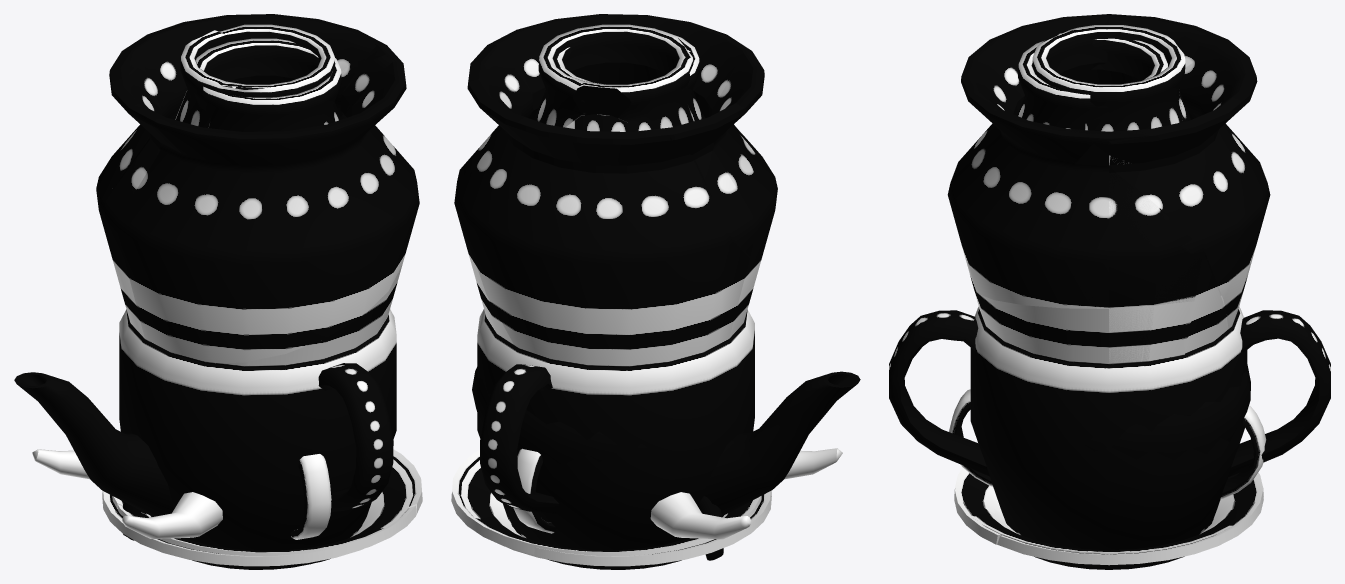
The model's file is SM_PotAndVase.fbx.
3 views of the same model, side by side, from view 1: azimuth 30°, elevation 25°; view 2: azimuth 150°, elevation 25°; view 3: azimuth 270°, elevation 25° (orthographic).
Visible parts, largest first — view 1: SM_Vase2, SM_ElephantPot1, SM_Vase1, SM_Vase1_Shard2, SM_Plate1, SM_Vase2_2_Shard1, SM_Vase2_1_Shard3, SM_Vase2_2_Shard2, SM_Plate1_Shard1, SM_ElephantCup1, SM_Vase2_2_Shard3, SM_Plate1_Shard2; view 2: SM_Vase2_2_Shard1, SM_ElephantPot1, SM_Vase1_Shard2, SM_Vase2, SM_Vase2_2_Shard2, SM_Plate1, SM_Vase2_2_Shard3, SM_Vase3, SM_Plate1_Shard2, SM_ElephantCup1, SM_Vase1, SM_Vase2_2_Shard4 (+2 smaller); view 3: SM_ElephantPot1, SM_Vase2, SM_Vase2_2_Shard1, SM_Vase2_2_Shard4, SM_Vase1_Shard2, SM_Vase2_1_Shard1, SM_Vase2_1_Shard3, SM_Vase1, SM_Vase3, SM_Plate1_Shard2, SM_Vase2_2_Shard3, SM_ElephantCup1 (+4 smaller).
Boxes of the visible parts, x1=… form: SM_Vase2: x1=104, y1=16, x2=419, y2=363; SM_ElephantPot1: x1=14, y1=309, x2=396, y2=550; SM_Vase1: x1=194, y1=38, x2=341, y2=131; SM_Vase1_Shard2: x1=175, y1=24, x2=335, y2=127; SM_Plate1: x1=102, y1=459, x2=412, y2=569; SM_Vase2_2_Shard1: x1=96, y1=14, x2=379, y2=339; SM_Vase2_1_Shard3: x1=212, y1=265, x2=402, y2=367; SM_Vase2_2_Shard2: x1=104, y1=66, x2=160, y2=255; SM_Plate1_Shard1: x1=117, y1=504, x2=415, y2=562; SM_ElephantCup1: x1=122, y1=454, x2=331, y2=540; SM_Vase2_2_Shard3: x1=350, y1=62, x2=394, y2=115; SM_Plate1_Shard2: x1=112, y1=449, x2=422, y2=527; SM_Vase2_2_Shard1: x1=454, y1=42, x2=749, y2=367; SM_ElephantPot1: x1=477, y1=309, x2=860, y2=550; SM_Vase1_Shard2: x1=534, y1=24, x2=693, y2=131; SM_Vase2: x1=459, y1=14, x2=777, y2=346; SM_Vase2_2_Shard2: x1=667, y1=55, x2=756, y2=256; SM_Plate1: x1=461, y1=460, x2=771, y2=569; SM_Vase2_2_Shard3: x1=524, y1=16, x2=744, y2=118; SM_Vase3: x1=472, y1=367, x2=648, y2=464; SM_Plate1_Shard2: x1=451, y1=450, x2=714, y2=561; SM_ElephantCup1: x1=513, y1=448, x2=723, y2=560; SM_Vase1: x1=554, y1=30, x2=703, y2=121; SM_Vase2_2_Shard4: x1=455, y1=109, x2=537, y2=346; SM_ElephantPot1: x1=889, y1=306, x2=1330, y2=550; SM_Vase2: x1=947, y1=14, x2=1245, y2=365; SM_Vase2_2_Shard1: x1=1109, y1=28, x2=1270, y2=329; SM_Vase2_2_Shard4: x1=1075, y1=143, x2=1227, y2=364; SM_Vase1_Shard2: x1=1032, y1=25, x2=1185, y2=131; SM_Vase2_1_Shard1: x1=1006, y1=36, x2=1221, y2=307; SM_Vase2_1_Shard3: x1=973, y1=287, x2=1108, y2=365; SM_Vase1: x1=1017, y1=38, x2=1167, y2=129; SM_Vase3: x1=1085, y1=364, x2=1250, y2=460; SM_Plate1_Shard2: x1=997, y1=472, x2=1263, y2=569; SM_Vase2_2_Shard3: x1=972, y1=37, x2=1024, y2=115; SM_ElephantCup1: x1=949, y1=389, x2=1266, y2=499.
Bounding box in the file's own units: 82.59 × 96.46 × 82.62.
